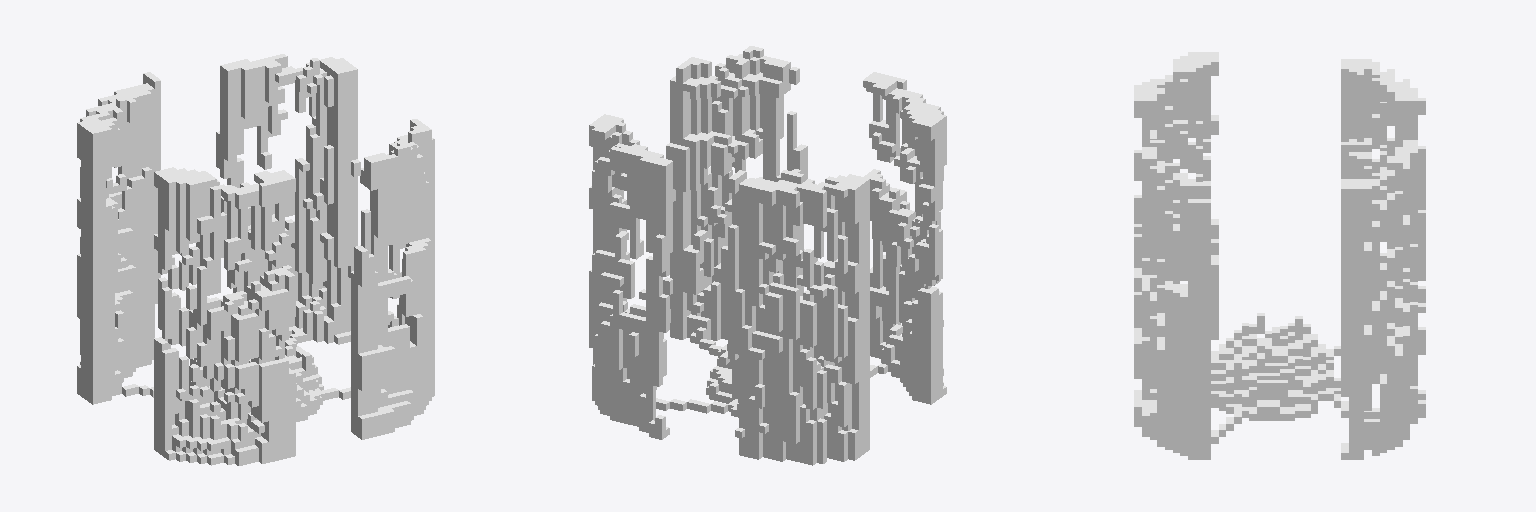
The model's file is drain.obj.
3 renders of one model, left to right at view 1: azimuth 30°, elevation 25°; view 2: azimuth 150°, elevation 25°; view 3: azimuth 270°, elevation 25°, orthographic.
Bounding box in the file's own units: 40 × 40 × 38.